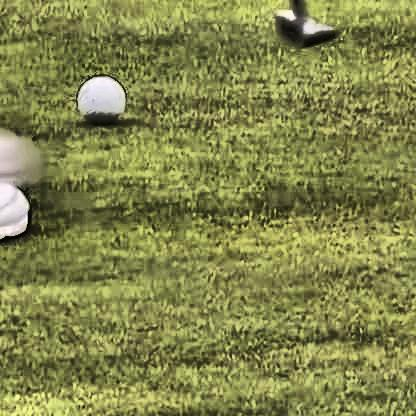golfball: (74, 74, 124, 124)
